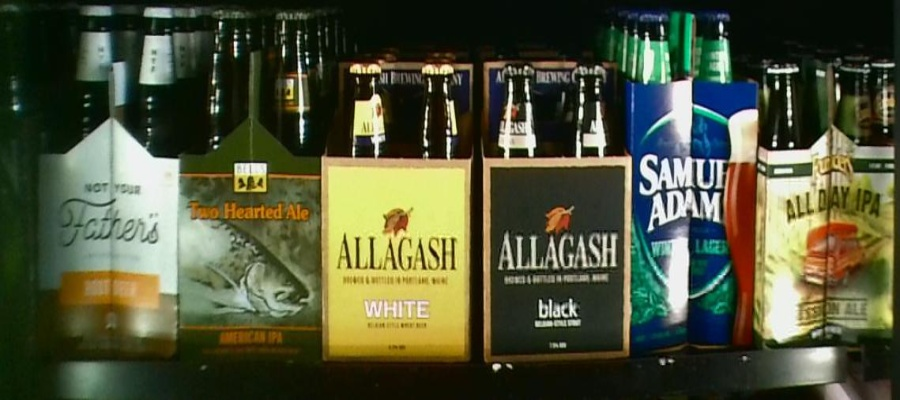bottle: (38, 1, 180, 360), (180, 2, 322, 354), (630, 7, 761, 357), (326, 57, 476, 356), (484, 55, 631, 349), (766, 60, 894, 342)
